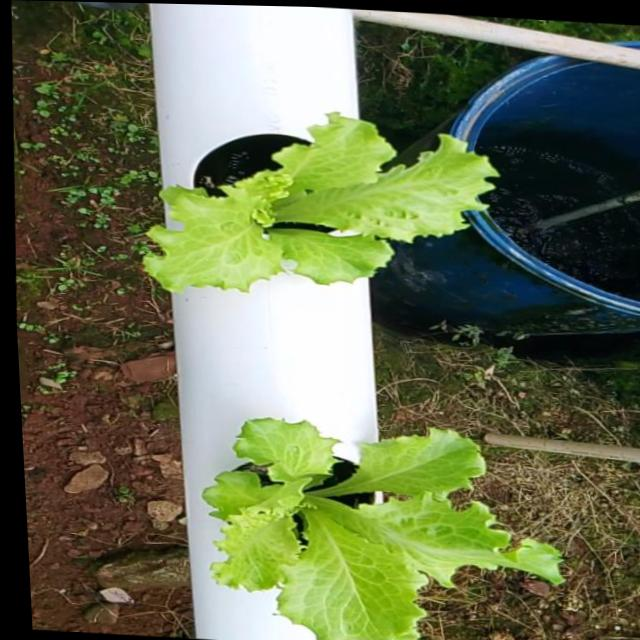Baby: (209, 402, 566, 636), (152, 91, 514, 271)
